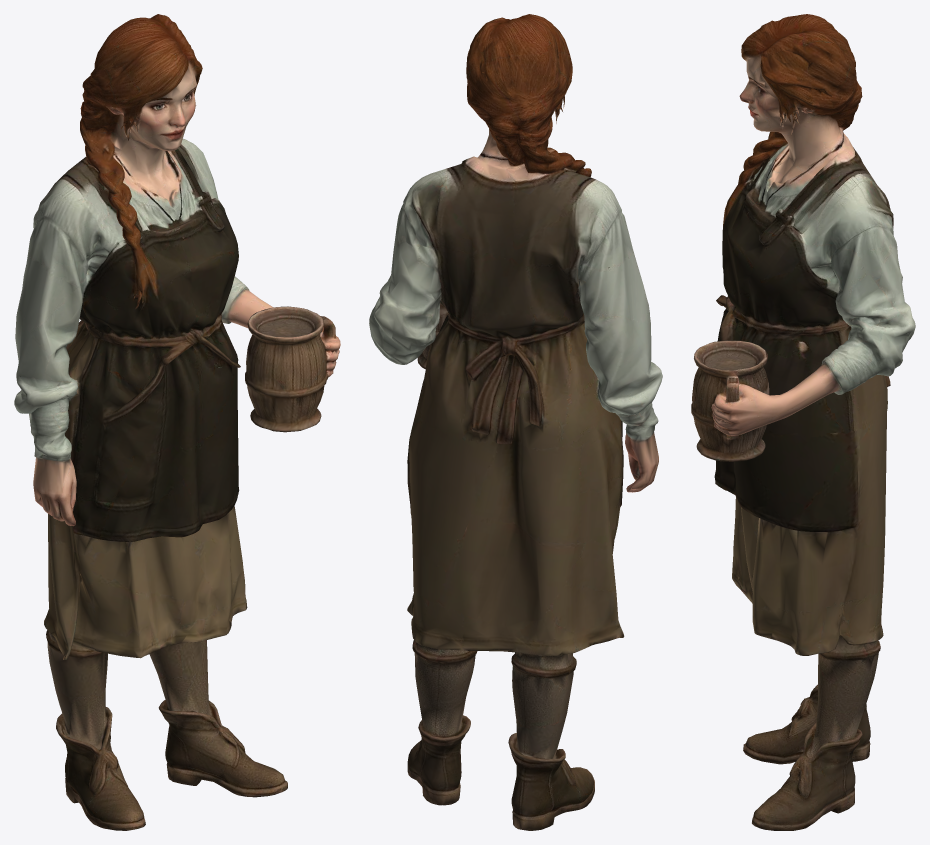
Rendered from maren_innkeeper.glb.
3 renders of one model, left to right at view 1: azimuth 30°, elevation 25°; view 2: azimuth 150°, elevation 25°; view 3: azimuth 270°, elevation 25°, orthographic. The views are drawn at different scales.
Size of the model in its own units: 0.7325 by 1.9 by 0.5084.
1 material, 1 textured.
